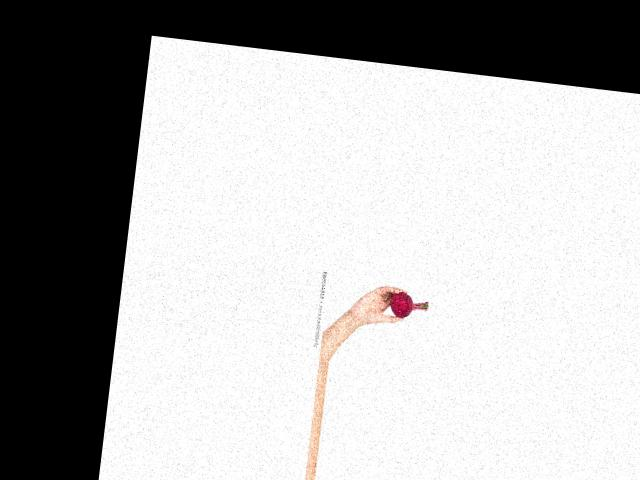beet: (390, 290, 430, 320)
